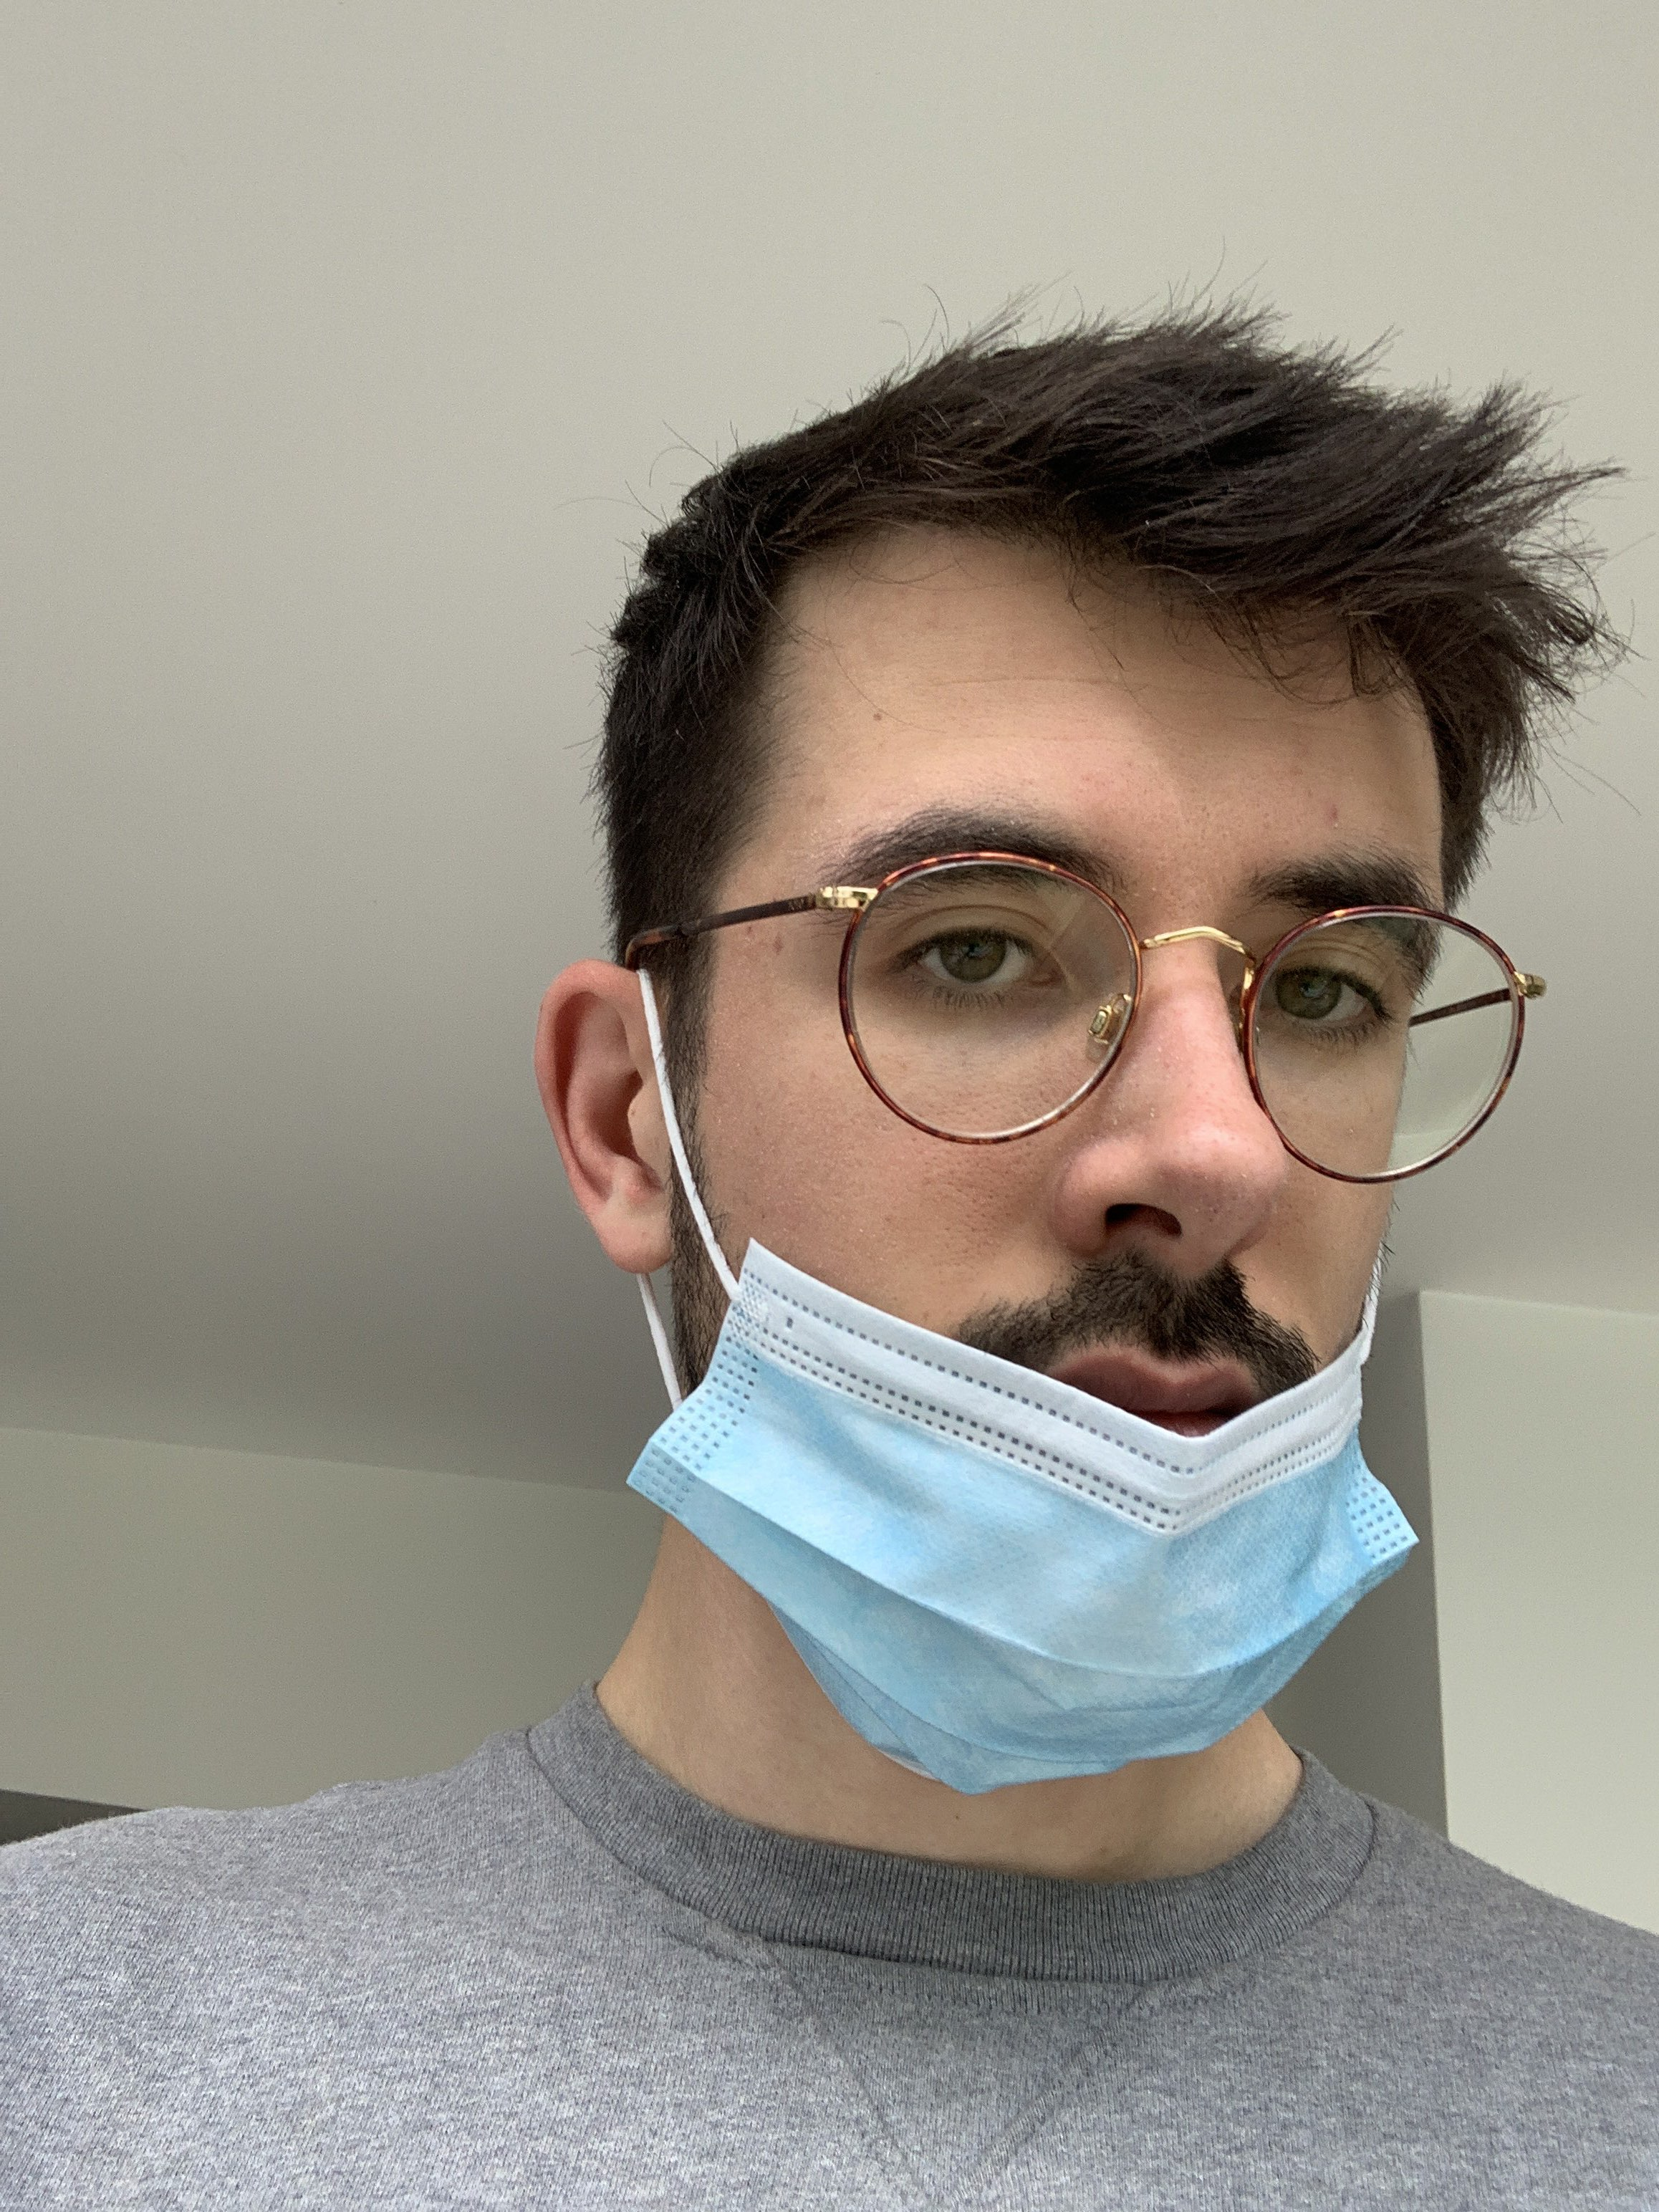with_incorrect_mask: (539, 299, 1620, 1799)
